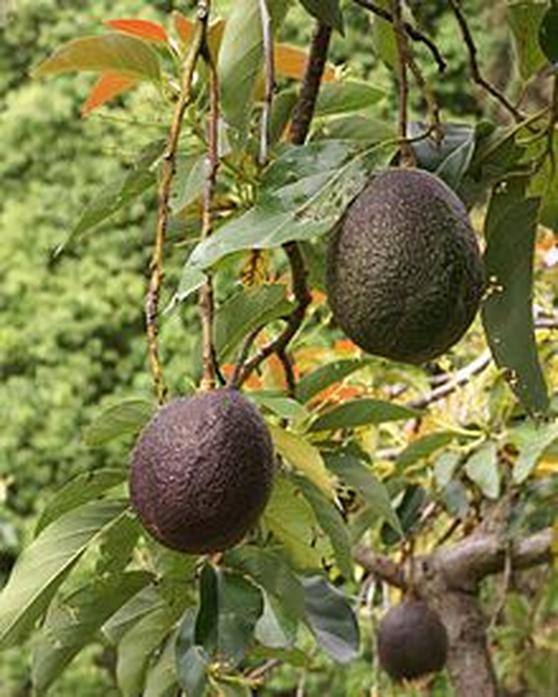avocado: (330, 164, 480, 365), (133, 389, 275, 553)
